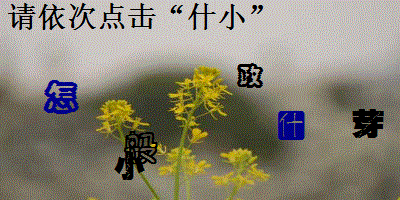text: (123, 130, 159, 166), (43, 79, 80, 114), (350, 108, 385, 140), (113, 149, 145, 181), (276, 110, 307, 142), (236, 62, 264, 89)
